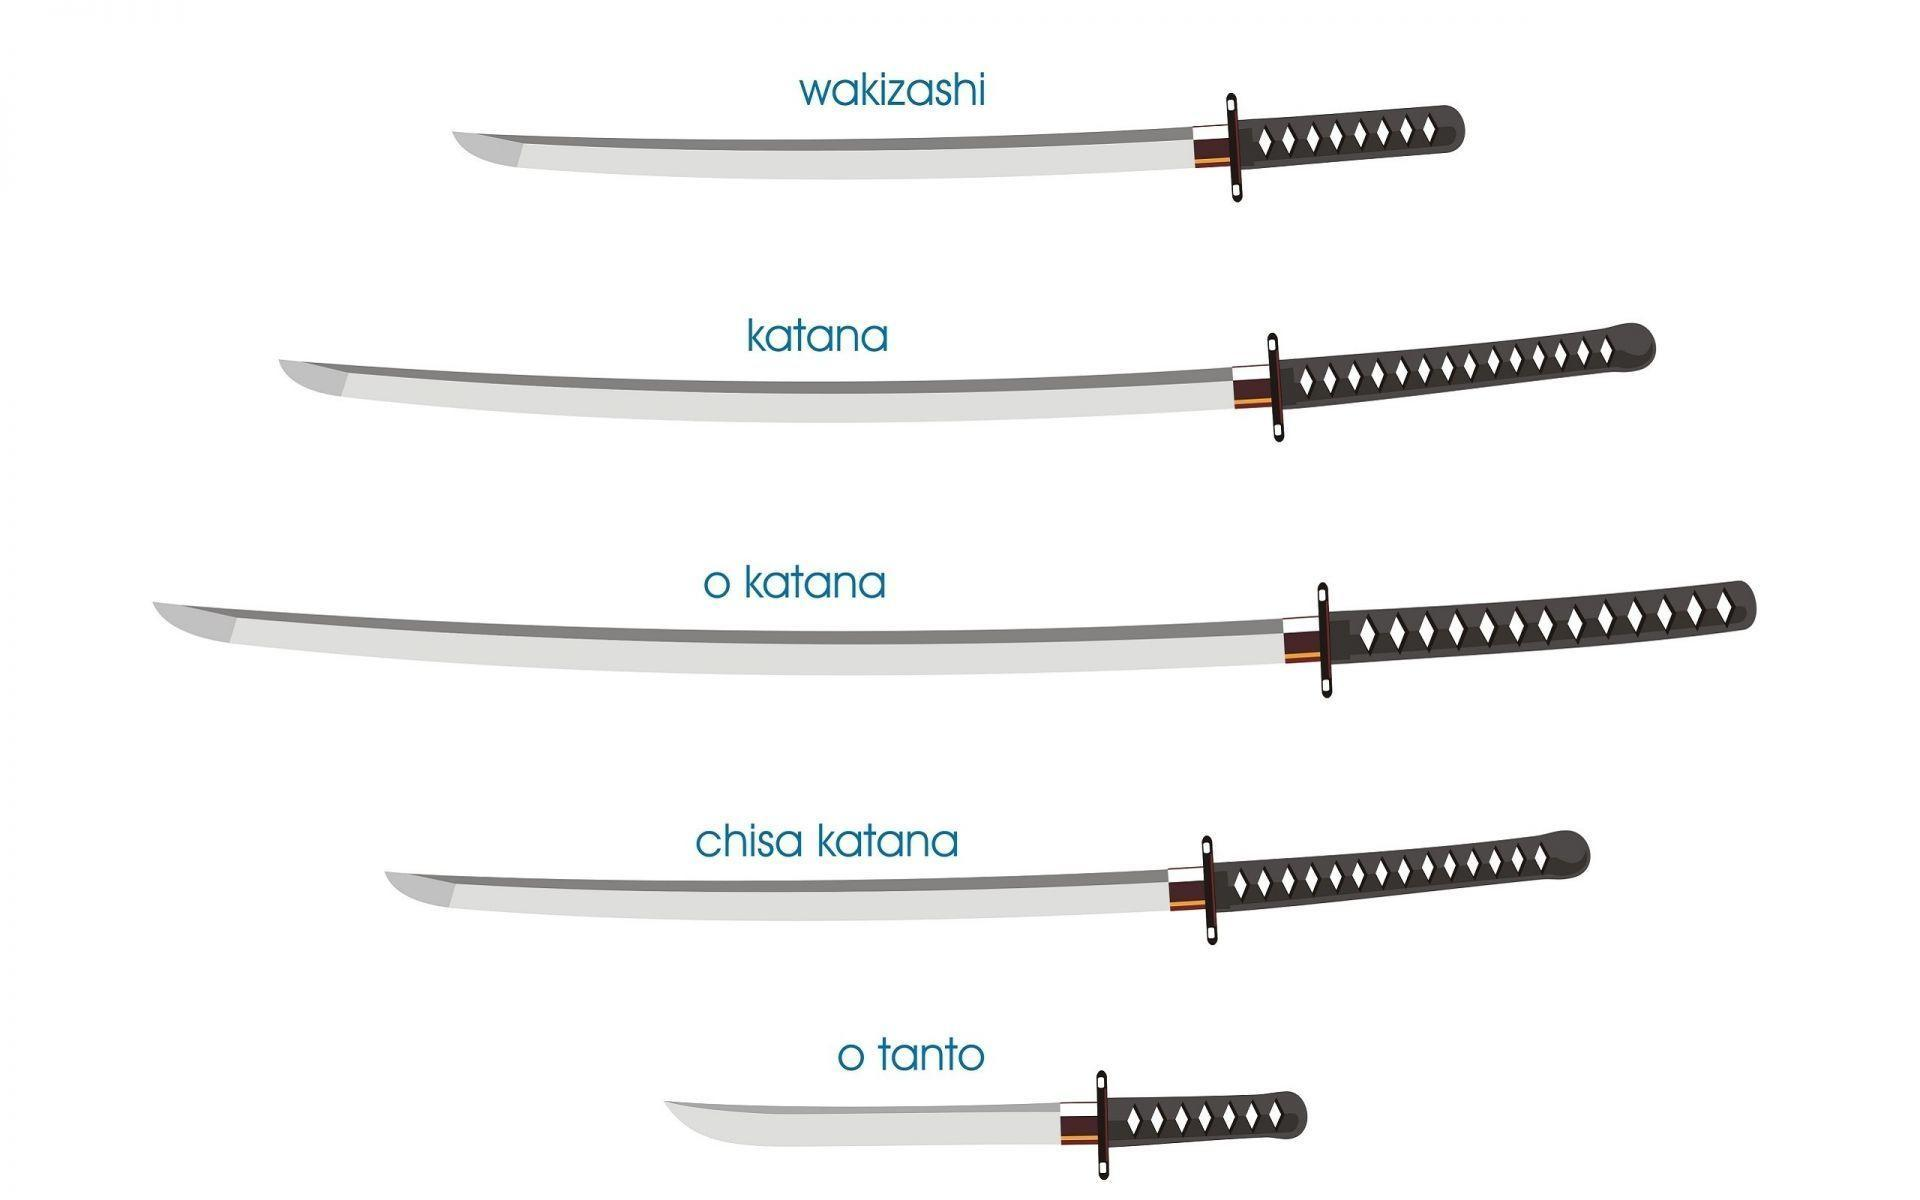espada: (152, 528, 1768, 723), (247, 272, 1675, 465), (382, 799, 1603, 973), (444, 62, 1489, 205)
